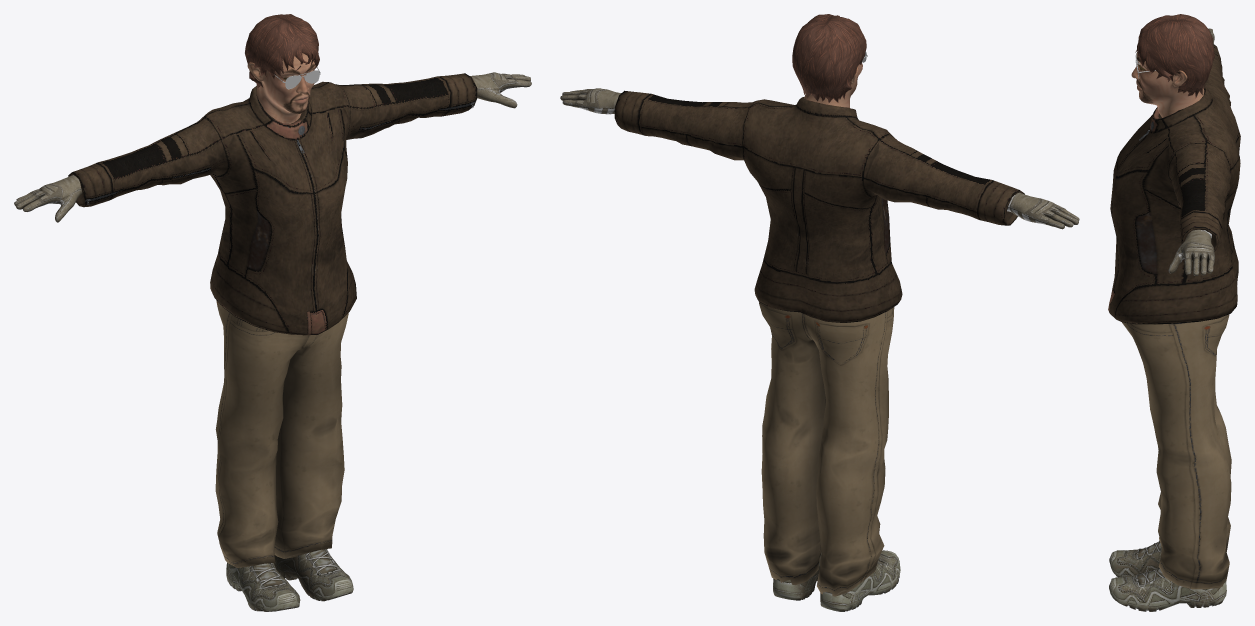
The model's file is Dood.obj.
3 renders of one model, left to right at view 1: azimuth 30°, elevation 25°; view 2: azimuth 150°, elevation 25°; view 3: azimuth 270°, elevation 25°, orthographic.
Visible parts, largest first — view 1: Tops, Bottoms, Shoes, Hair, Gloves, Body; view 2: Tops, Bottoms, Hair, Shoes, Gloves; view 3: Tops, Bottoms, Hair, Shoes, Body, Gloves.
Part boxes in pixels (<box>): Tops: <box>68,73,477,335</box>; Bottoms: <box>215,300,348,567</box>; Shoes: <box>226,549,353,611</box>; Hair: <box>245,14,319,88</box>; Gloves: <box>14,72,531,222</box>; Body: <box>247,53,315,123</box>; Tops: <box>614,90,1024,322</box>; Bottoms: <box>759,302,894,596</box>; Hair: <box>792,14,866,102</box>; Shoes: <box>773,550,900,611</box>; Gloves: <box>560,88,1079,229</box>; Tops: <box>1108,44,1240,324</box>; Bottoms: <box>1122,314,1231,589</box>; Hair: <box>1135,14,1214,98</box>; Shoes: <box>1109,540,1226,611</box>; Body: <box>1131,52,1204,117</box>; Gloves: <box>1168,28,1214,275</box>.
Size of the model in its own units: 171 by 181 by 38.11.
